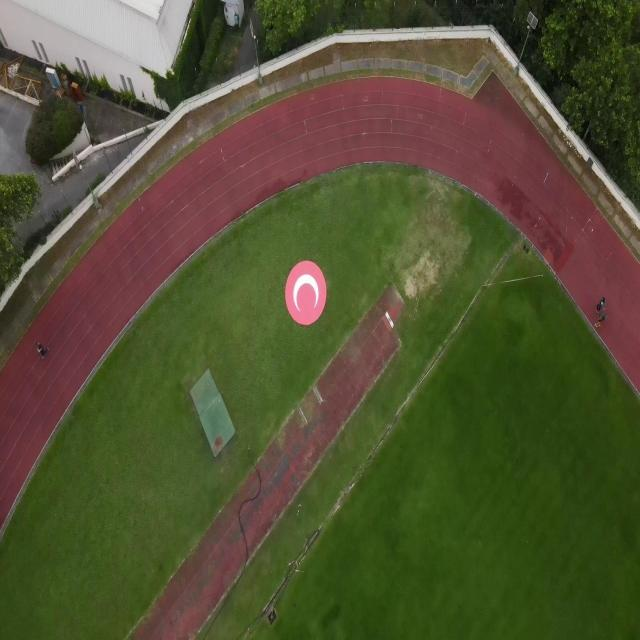p3rson: (35, 340, 50, 360), (594, 307, 608, 328), (595, 296, 606, 314)
